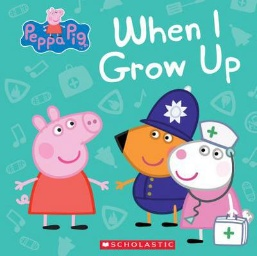Peppa: (15, 103, 110, 231)
